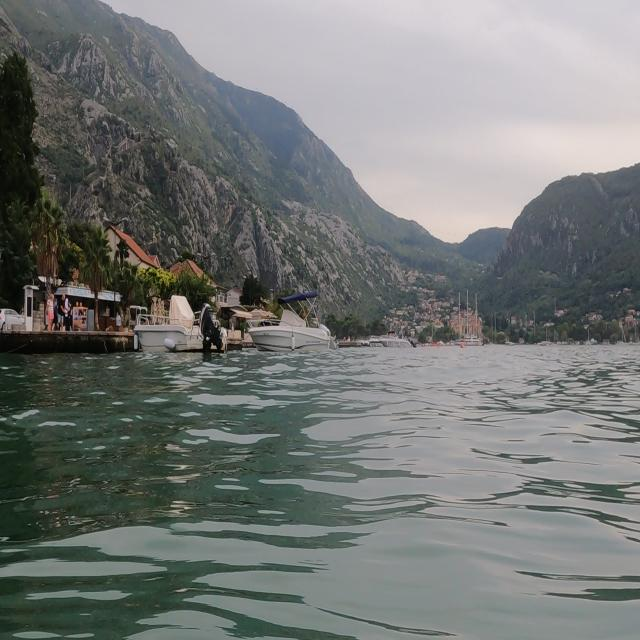boat: (127, 284, 237, 366), (247, 287, 337, 357), (371, 309, 428, 358), (453, 283, 486, 358)
